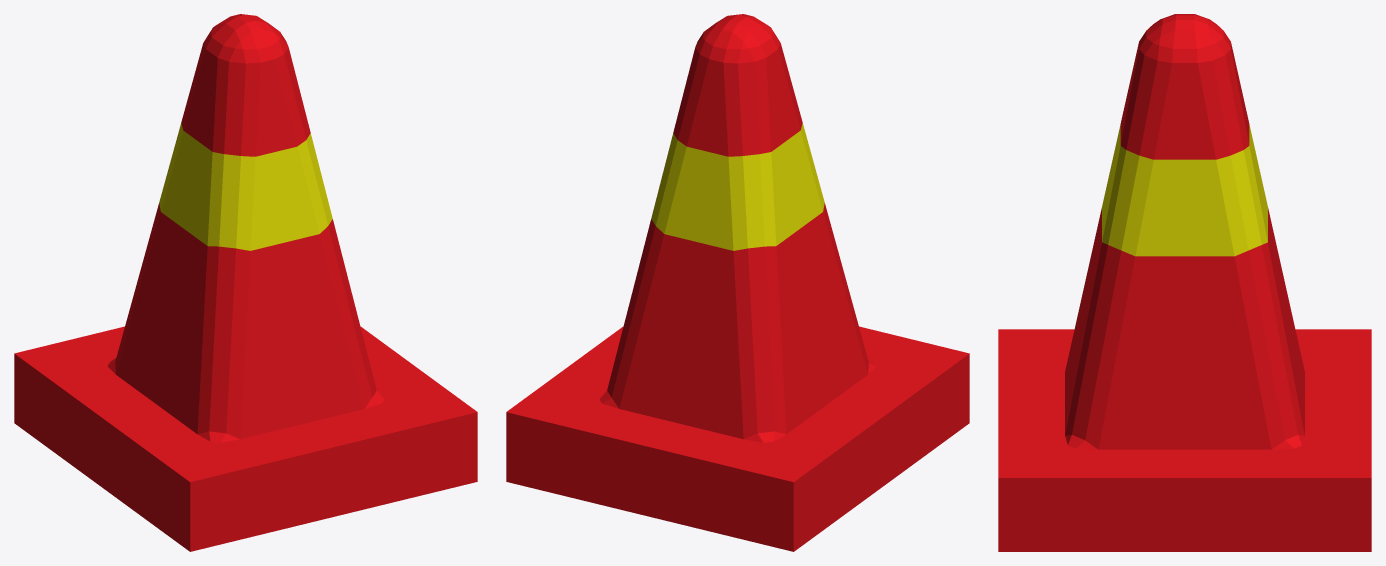
Rendered from pacholek.fbx.
3 views of the same model, side by side, from view 1: azimuth 30°, elevation 25°; view 2: azimuth 150°, elevation 25°; view 3: azimuth 270°, elevation 25° (orthographic). The views are drawn at different scales.
Parts seen in each view (by area): view 1: Cube; view 2: Cube; view 3: Cube.
Part boxes in pixels (x1,y1,x2,y2): Cube: (14, 14, 477, 551); Cube: (506, 14, 969, 551); Cube: (998, 14, 1371, 551).
Size of the model in its own units: 136 by 196 by 144.
